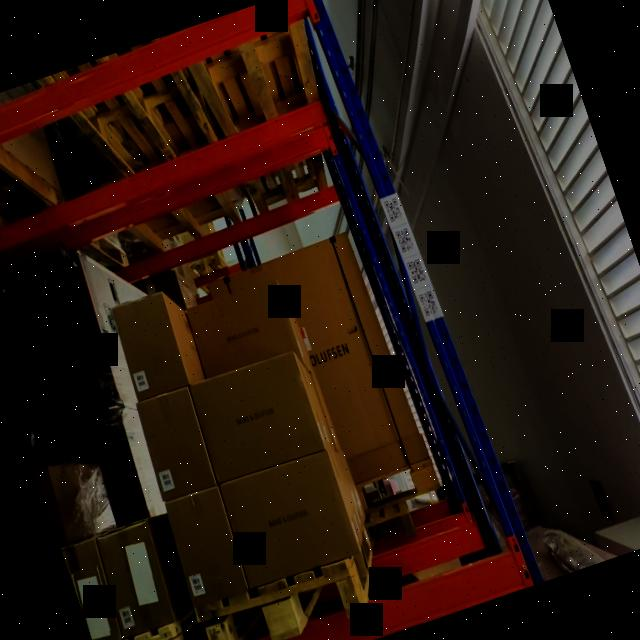box: (218, 445, 356, 581), (192, 346, 326, 482), (159, 487, 248, 602), (187, 282, 296, 372), (94, 522, 180, 634), (134, 388, 216, 499), (109, 291, 191, 397)
